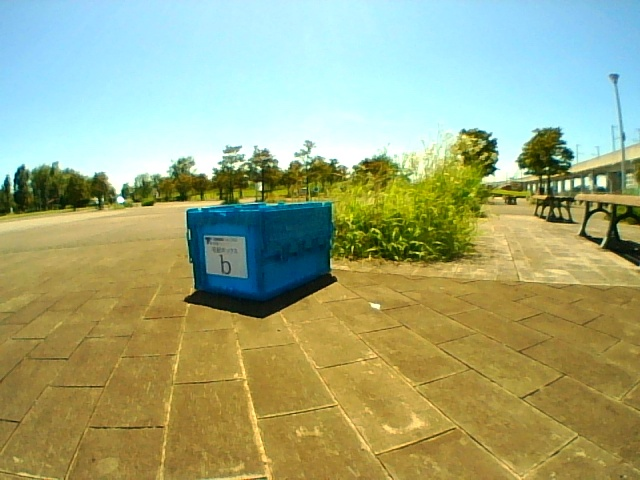blue_box: (187, 202, 332, 293)
tag_b: (206, 237, 245, 276)
